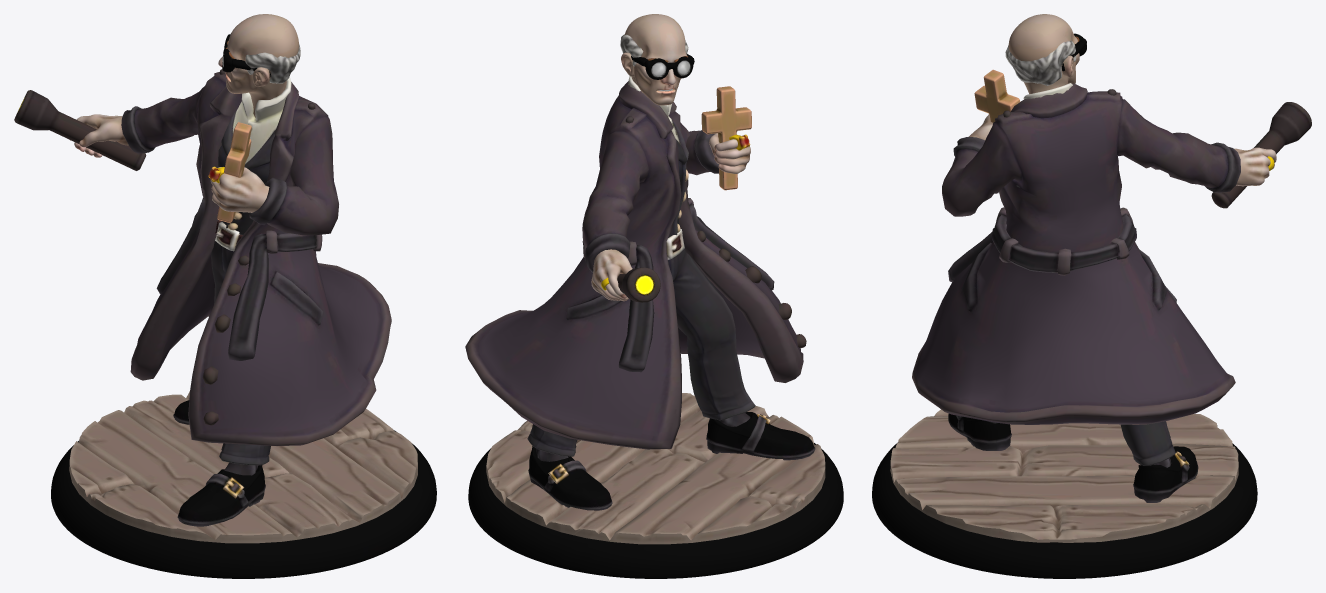
The model's file is father-warren-leung.glb.
3 views of the same model, side by side, from view 1: azimuth 30°, elevation 25°; view 2: azimuth 150°, elevation 25°; view 3: azimuth 270°, elevation 25° (orthographic). The views are drawn at different scales.
Bounding box in the file's own units: 0.7187 × 1 × 0.8202.
1 material, 1 textured.
